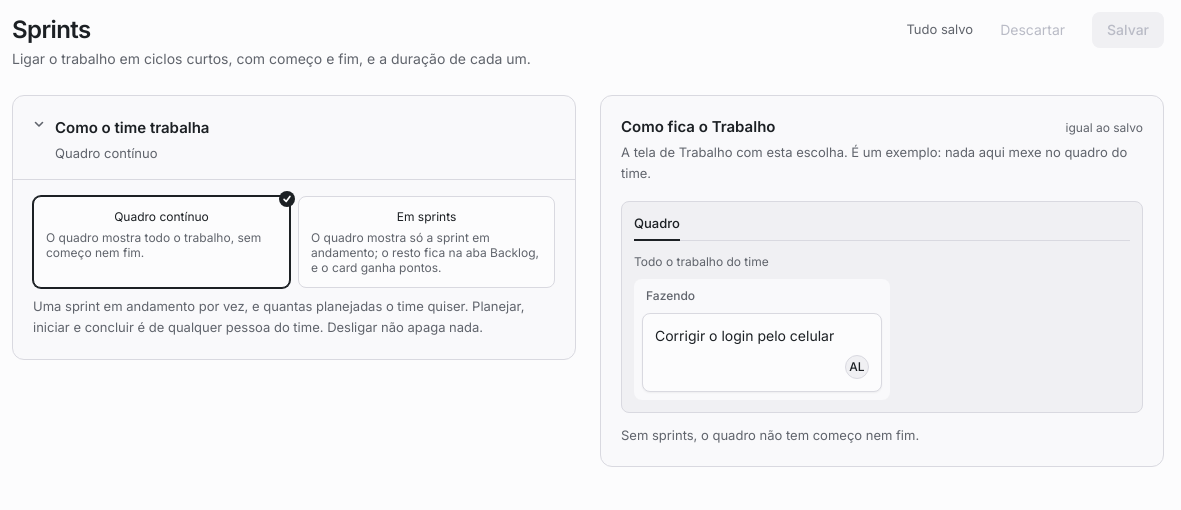
Scenario: SprintSettingsScreen › a prévia segue o rascunho: Backlog, pontos e a duração só com as sprints
Expected: the text "3 pontos" is not shown
Expected: the text "A sprint dura" is not shown
Step 1. Click the radio button labelled "Em sprints" → click(426, 242), box 299,197 -> 554,287
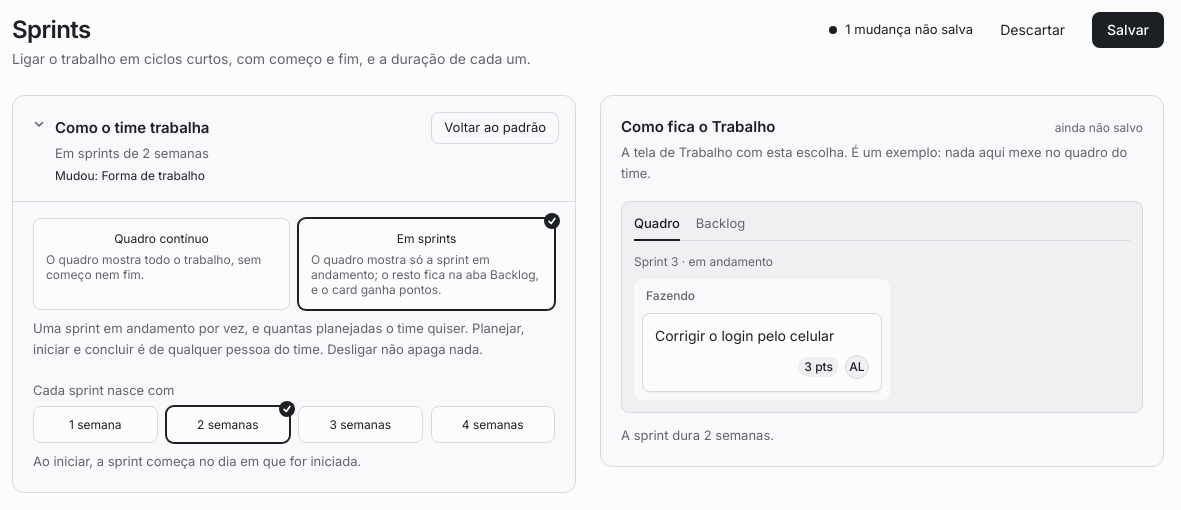
Now the text "A sprint dura 2 semanas." is shown, box 621,427 -> 774,443
Now the text "ainda não salvo" is shown, box 1055,119 -> 1143,137
Step 2. Click the radio button labelled "4 semanas" → click(493, 424), box 432,407 -> 554,442
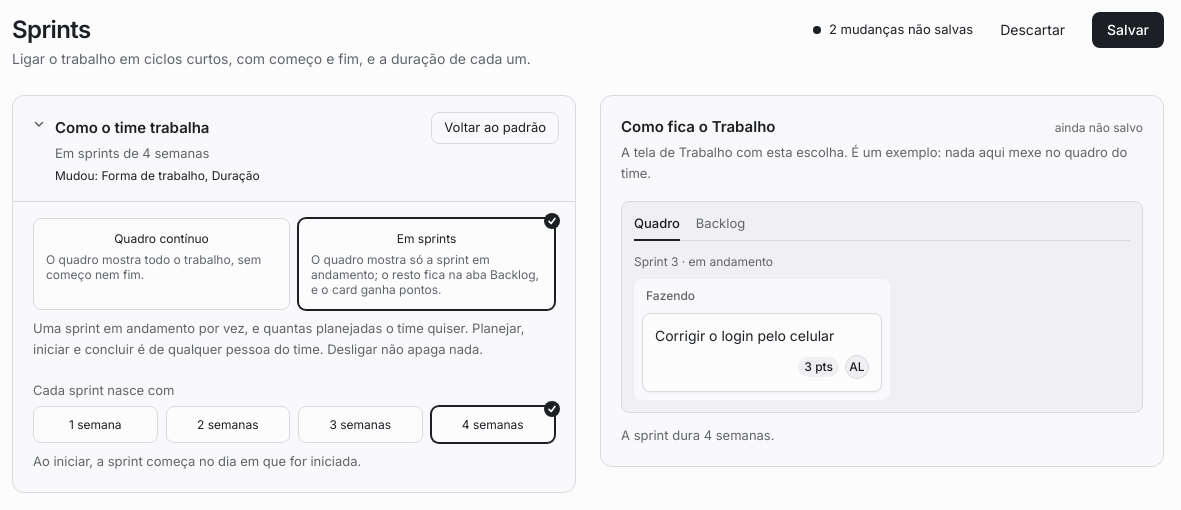
Now the text "A sprint dura 4 semanas." is shown, box 621,427 -> 774,443
# Voltar ao quadro continuo tira tudo de novo, sem salvar nada.
Step 3. Click the radio button labelled "Quadro contínuo" → click(162, 264), box 34,219 -> 289,309
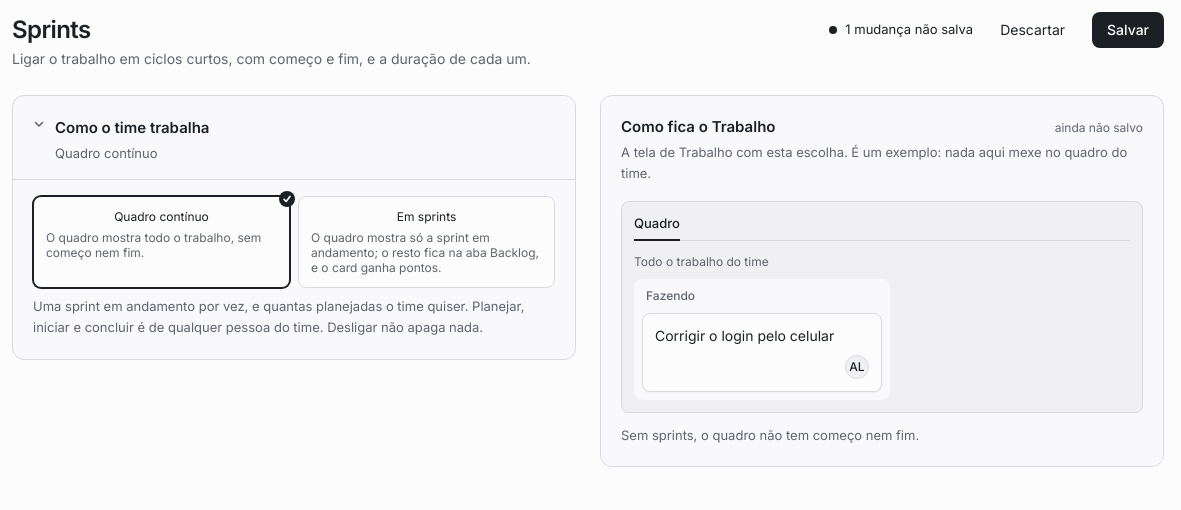
Now the text "Cada sprint nasce com" is gone
